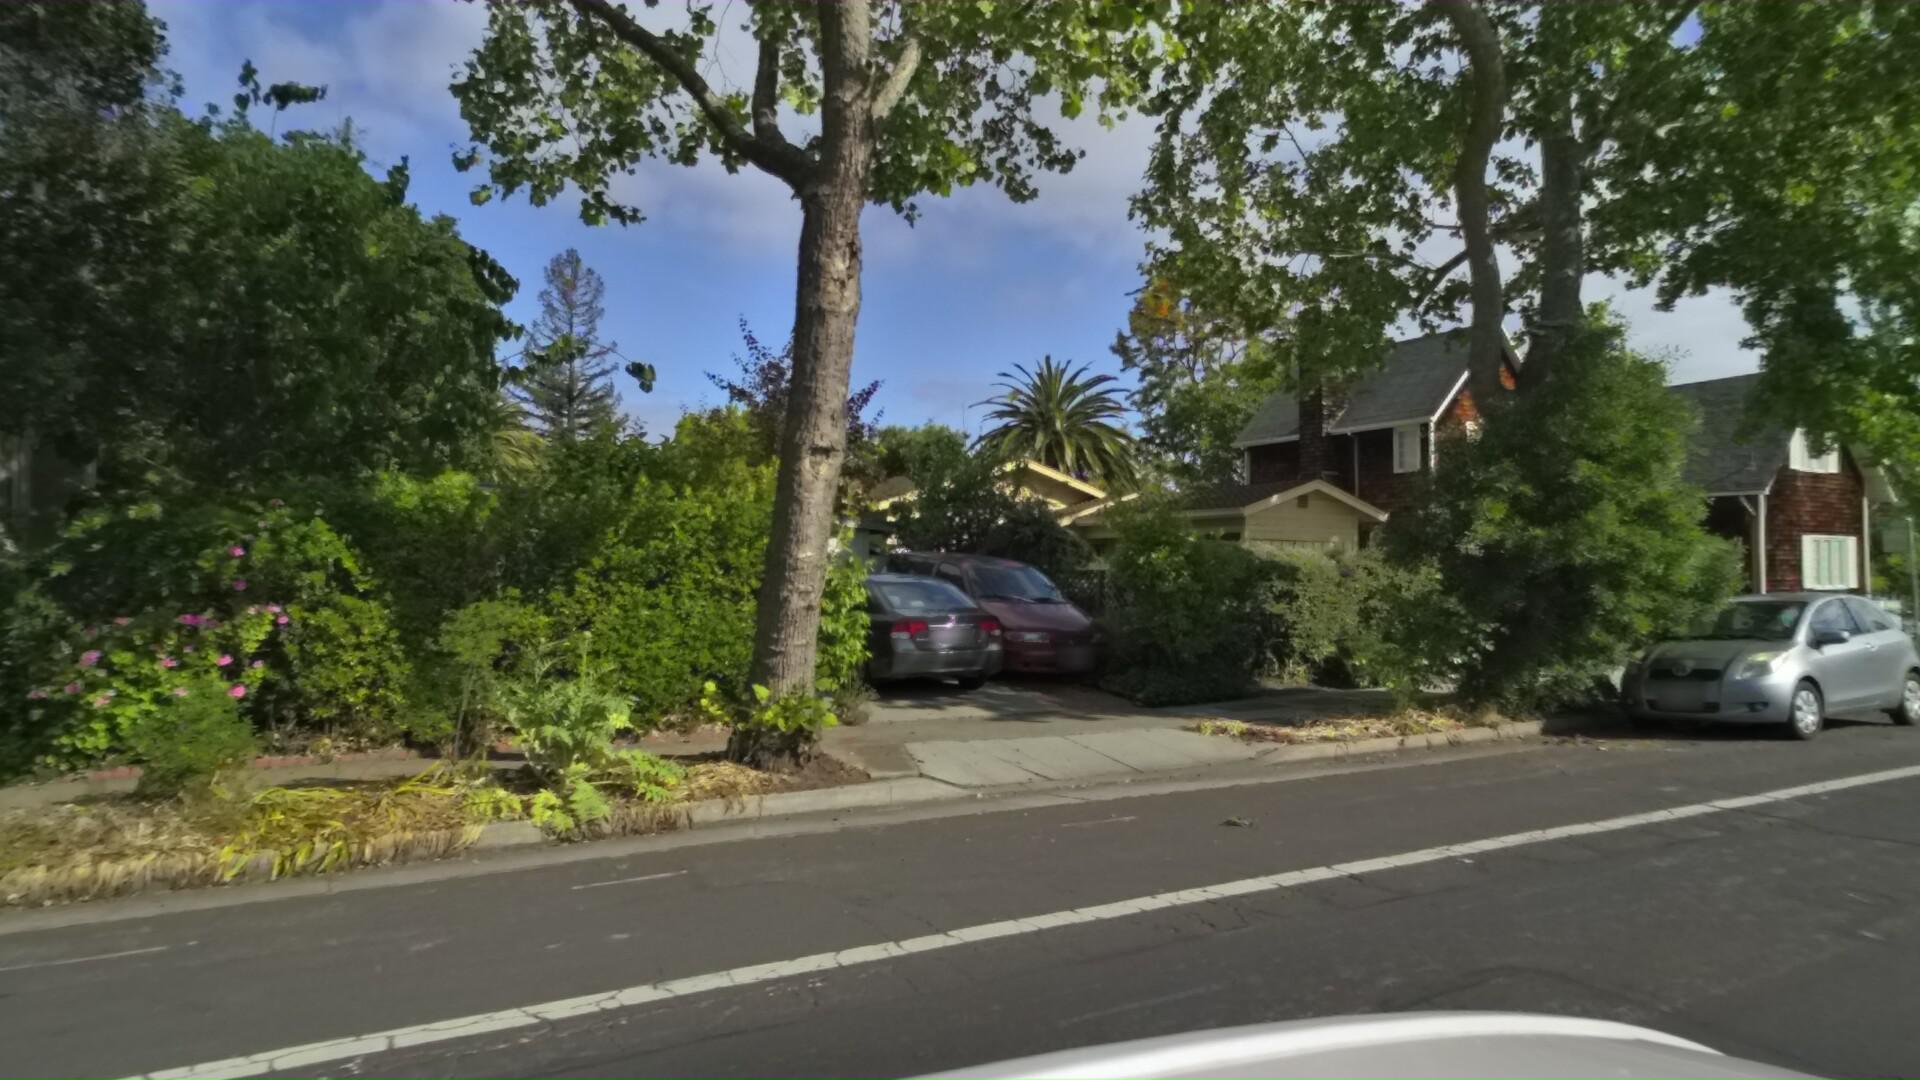car: (1553, 576, 1920, 760), (839, 543, 1105, 691), (721, 566, 992, 705)
